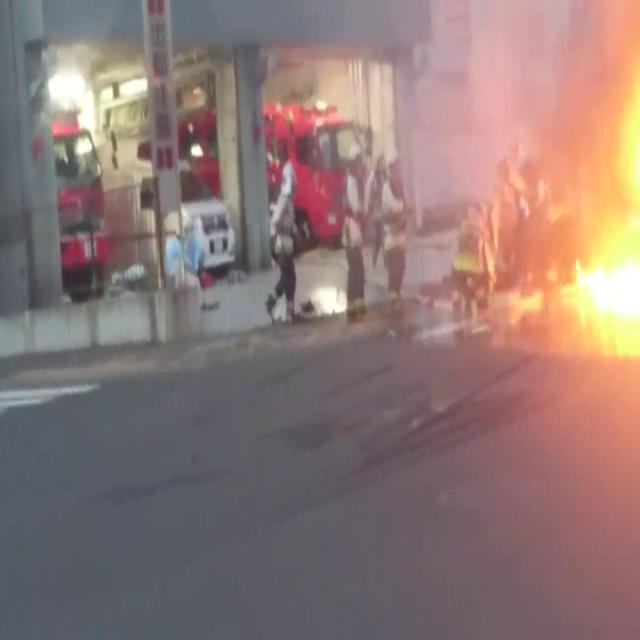Smoke: (429, 19, 542, 170)
